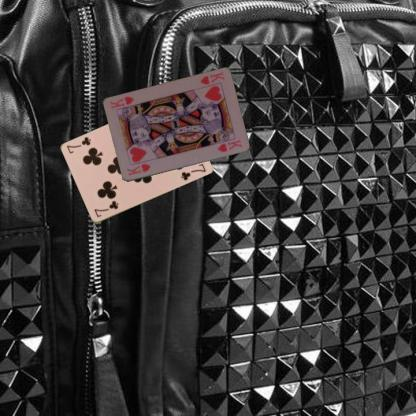7c: (91, 198, 120, 219)
Kh: (197, 69, 225, 86), (124, 162, 152, 178)
